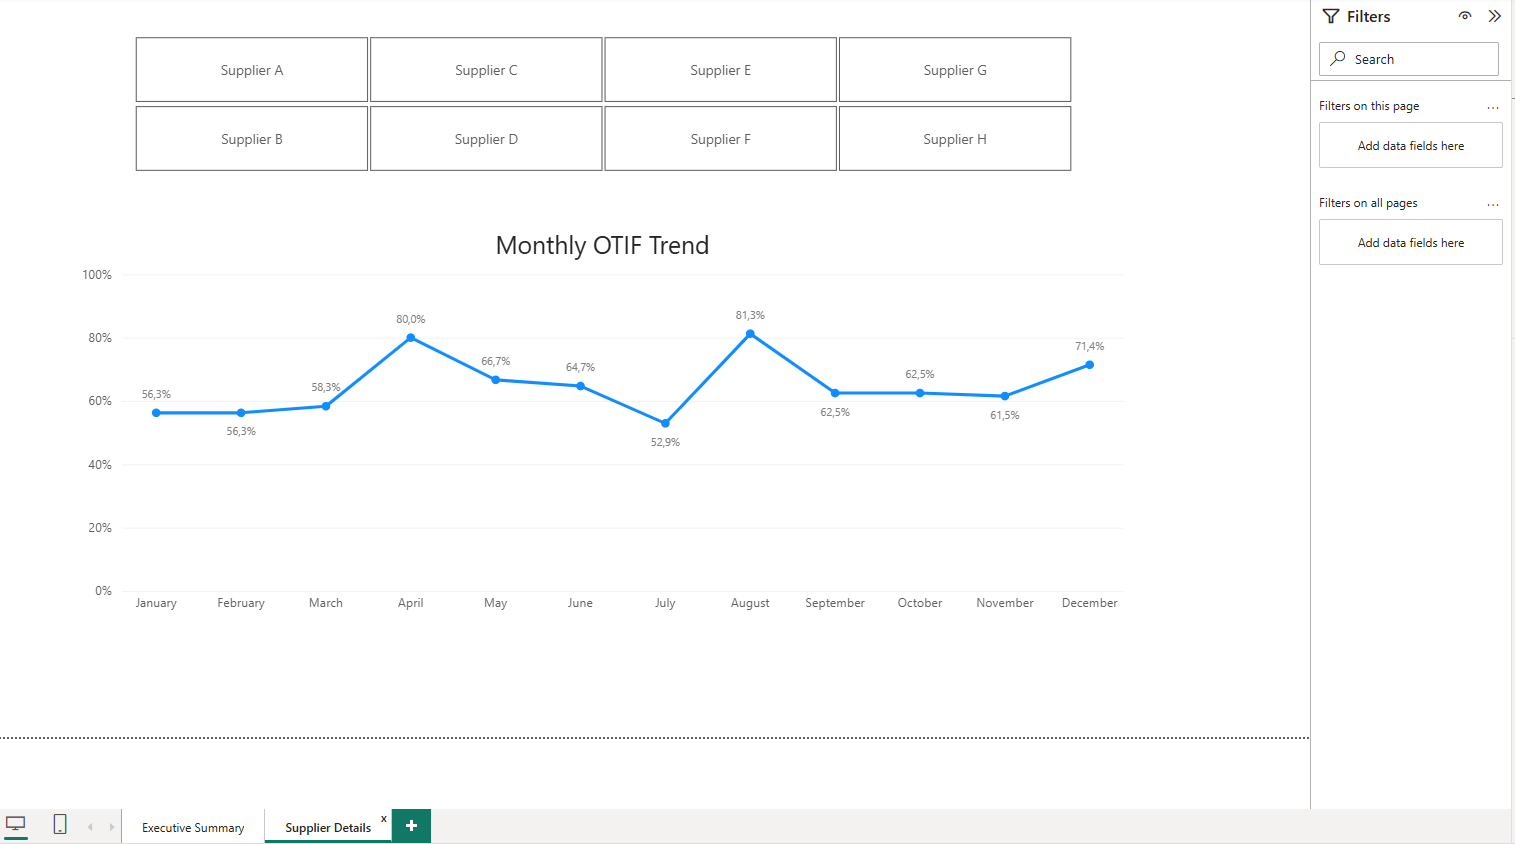

The dashboard page shown, as its layout file describes it:
{"tool":"powerbi","page":{"name":"Supplier Details","canvas":[1280,720],"ordinal":1},"visuals":[{"type":"lineChart","title":"Monthly OTIF Trend","fields":{"Category":["fact_supplier_deliveries.Actual_Delivery_Date.Variation.Date Hierarchy.Month","fact_supplier_deliveries.Actual_Delivery_Date.Variation.Date Hierarchy.Day"],"Y":["Measures#.OTIF%"]},"box":[80,224,1024,384],"z":0},{"type":"slicer","fields":{"Values":["fact_supplier_deliveries.Supplier"]},"box":[112,32,960,144],"z":1000}]}

Visuals, with their boxes on the page's 1280x720 design canvas (x1, y1, x2, y2). These are canvas units, not pixel positions in the 1515x844 screenshot, which may show the page scaled, cropped or inside an application window:
"Monthly OTIF Trend" lineChart: (80,224,1104,608)
slicer - fact_supplier_deliveries.Supplier: (112,32,1072,176)
